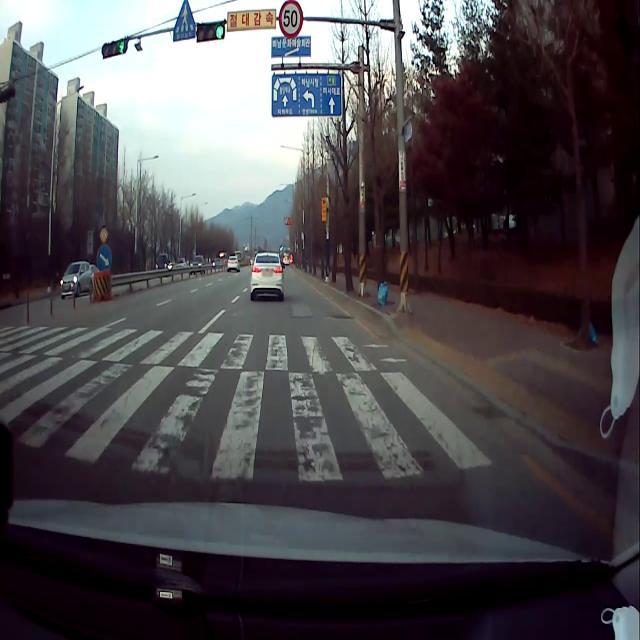Green Light: (118, 36, 127, 56), (214, 22, 225, 38)
